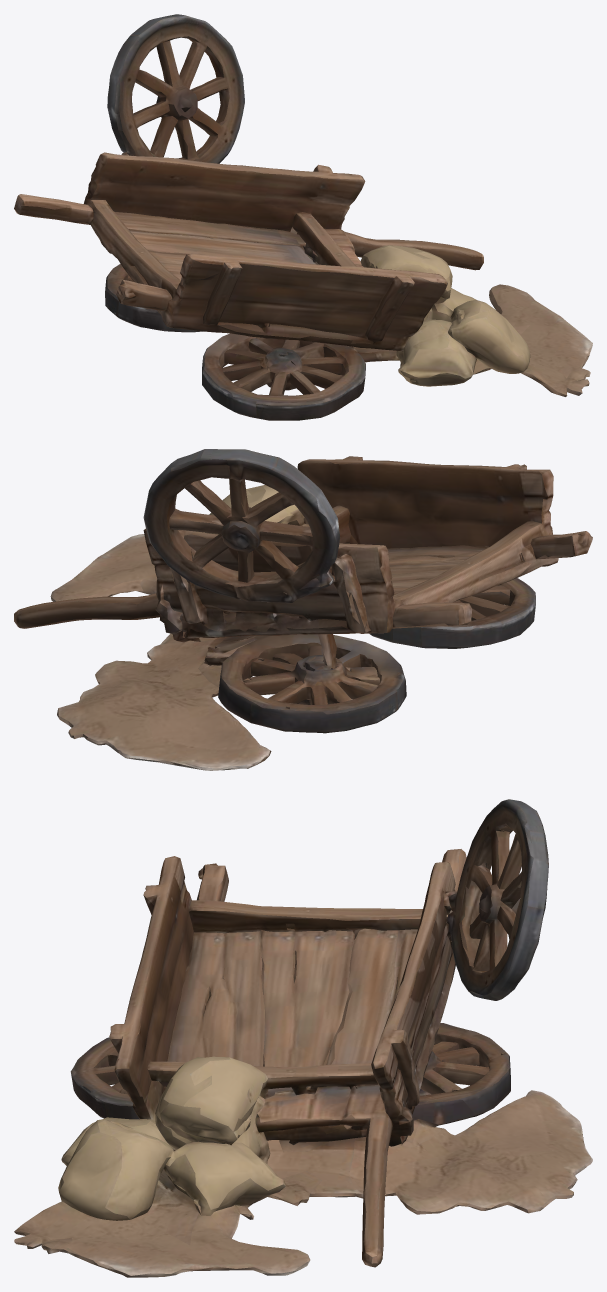
File: overturned_handcart.glb
3 views of the same model, one above another, from view 1: azimuth 30°, elevation 25°; view 2: azimuth 150°, elevation 25°; view 3: azimuth 270°, elevation 25° (orthographic). The views are drawn at different scales.
Parts seen in each view (by area): view 1: geometry_0; view 2: geometry_0; view 3: geometry_0.
Part boxes in pixels (x1=…): geometry_0: x1=14, y1=14, x2=592, y2=420; geometry_0: x1=14, y1=449, x2=592, y2=770; geometry_0: x1=14, y1=799, x2=592, y2=1277.
Size of the model in its own units: 2.2 by 1.29 by 2.14.
1 material, 1 textured.
